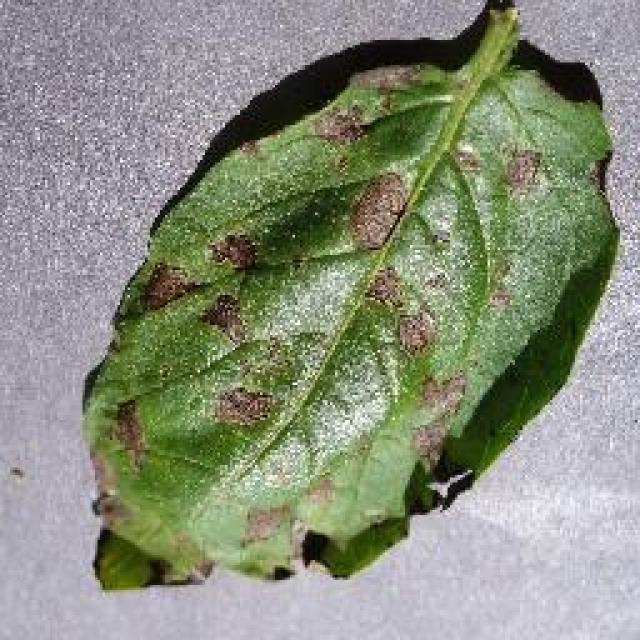Potato___Early_blight: (81, 3, 622, 596)
